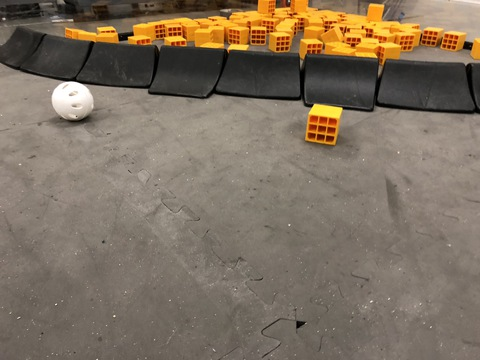ball: (42, 76, 104, 129)
block: (299, 96, 349, 149)
